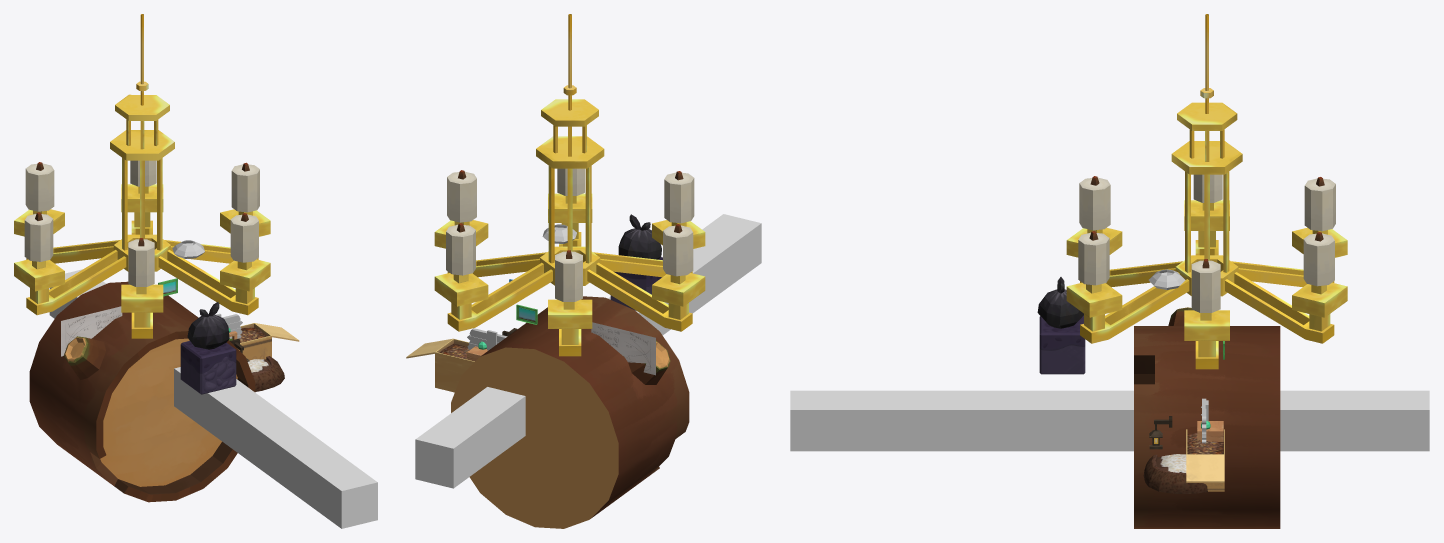
Rendered from Wastebin.FBX.
The picture shows the model from 3 angles, left to right: view 1: azimuth 30°, elevation 25°; view 2: azimuth 150°, elevation 25°; view 3: azimuth 270°, elevation 25°; orthographic projection. The views are drawn at different scales.
Parts seen in each view (by area): view 1: Log, Chandelier, Box001, Tilemap, GarbageBag, Seedbox, Paper, Nest, Light; view 2: Log, Chandelier, Box001, Seedbox, Paper, GarbageBag, Sign, Tilemap; view 3: Box001, Chandelier, Log, Tilemap, Seedbox, Nest, GarbageBag.
Part boxes in pixels (x1=…): Log: x1=29, y1=281, x2=255, y2=502; Chandelier: x1=14, y1=14, x2=270, y2=338; Box001: x1=49, y1=269, x2=377, y2=528; Tilemap: x1=180, y1=341, x2=236, y2=394; GarbageBag: x1=187, y1=302, x2=229, y2=349; Seedbox: x1=237, y1=323, x2=299, y2=360; Paper: x1=61, y1=306, x2=122, y2=356; Nest: x1=237, y1=356, x2=284, y2=391; Light: x1=172, y1=240, x2=204, y2=258; Log: x1=451, y1=296, x2=689, y2=528; Chandelier: x1=434, y1=14, x2=705, y2=356; Box001: x1=415, y1=214, x2=761, y2=488; Seedbox: x1=406, y1=338, x2=474, y2=392; Paper: x1=591, y1=322, x2=655, y2=375; GarbageBag: x1=618, y1=214, x2=661, y2=259; Sign: x1=467, y1=328, x2=507, y2=350; Tilemap: x1=610, y1=257, x2=662, y2=310; Box001: x1=790, y1=390, x2=1429, y2=451; Chandelier: x1=1066, y1=14, x2=1347, y2=369; Log: x1=1134, y1=307, x2=1280, y2=528; Tilemap: x1=1039, y1=315, x2=1085, y2=374; Seedbox: x1=1186, y1=429, x2=1224, y2=491; Nest: x1=1143, y1=454, x2=1207, y2=493; GarbageBag: x1=1037, y1=277, x2=1083, y2=328.
Bounding box in the file's own units: 733 × 1220 × 1400.
